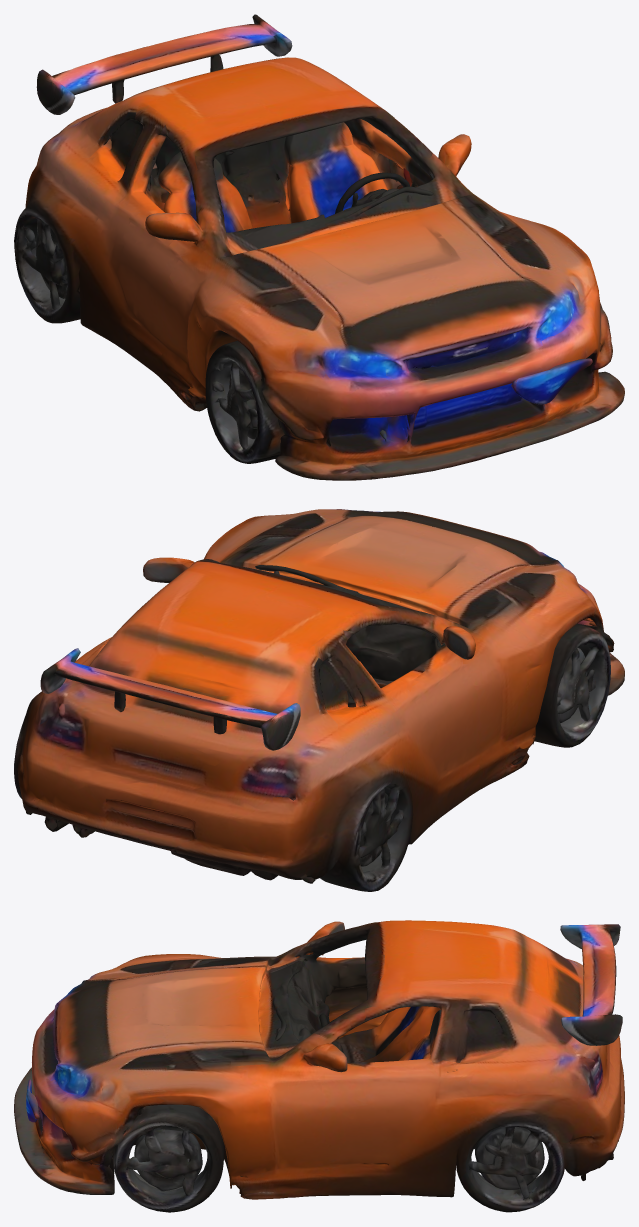
The model's file is hero-car.glb.
The picture shows the model from 3 angles, top to bottom: view 1: azimuth 30°, elevation 25°; view 2: azimuth 150°, elevation 25°; view 3: azimuth 270°, elevation 25°; orthographic projection. The views are drawn at different scales.
Parts seen in each view (by area): view 1: tripo_node_54920a9a-ecac-4da0-b5f0-8ac97159ca12; view 2: tripo_node_54920a9a-ecac-4da0-b5f0-8ac97159ca12; view 3: tripo_node_54920a9a-ecac-4da0-b5f0-8ac97159ca12.
Boxes of the visible parts, box(x1,y1,x2,y2) form: tripo_node_54920a9a-ecac-4da0-b5f0-8ac97159ca12: box(14, 14, 624, 480); tripo_node_54920a9a-ecac-4da0-b5f0-8ac97159ca12: box(14, 509, 624, 891); tripo_node_54920a9a-ecac-4da0-b5f0-8ac97159ca12: box(14, 920, 624, 1212).
Size of the model in its own units: 0.5836 by 0.3444 by 1.
Materials: 1 (1 with a texture image).
